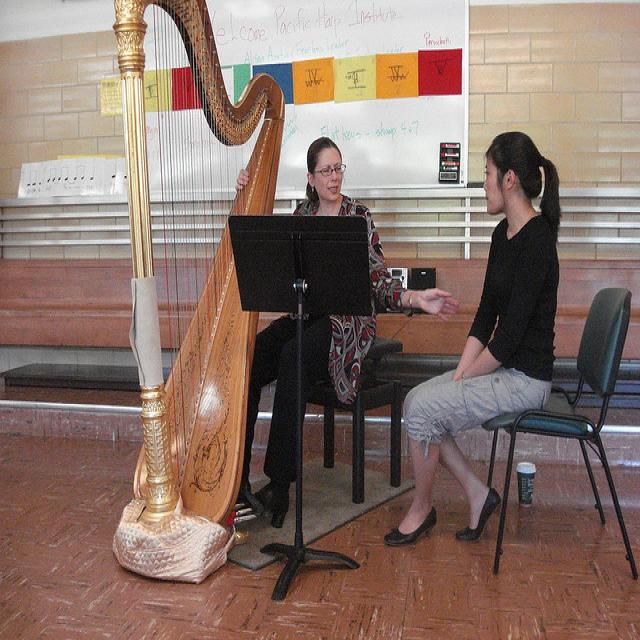harp: (106, 0, 290, 586)
